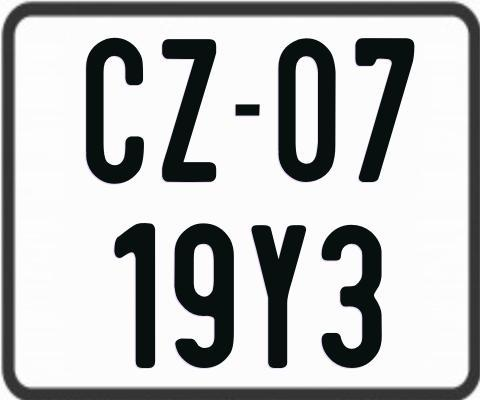0: (275, 36, 338, 181)
1: (113, 223, 156, 374)
3: (321, 222, 387, 367)
7: (354, 35, 413, 183)
9: (171, 223, 231, 368)
C: (86, 36, 146, 186)
Y: (249, 222, 310, 366)
Z: (161, 39, 219, 186)
